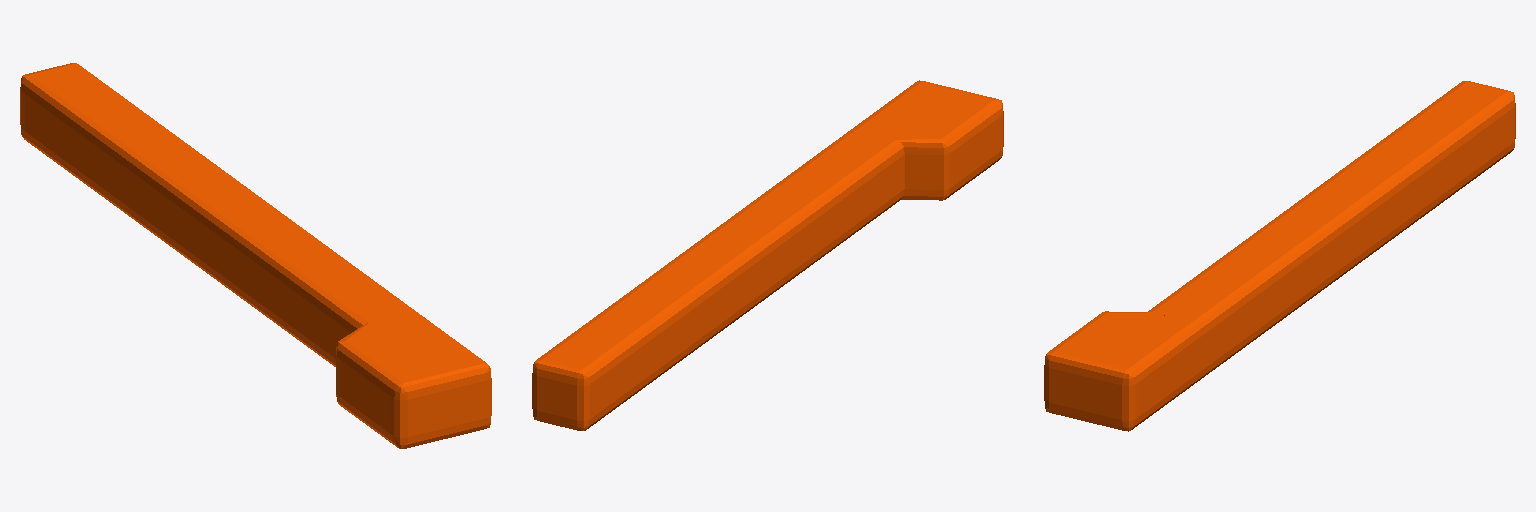
The robot description file, URDF, robot "square_brush":
<?xml version="1.0"?>
<!-- 3D-printed square brush captured with the OptiTrack+AVP rig (Motive rigid body "d2_brush").
     The mesh is the COACD convex decomposition (2 submeshes); the env loads it with
     convex_decomposition_from_submeshes enabled, so each submesh becomes its own convex collision
     shape. Mass comes from asset_options.density (200 kg/m^3, low-fill 3D print) — the same value
     every OakInk-v2 object is loaded with. -->
<robot name="square_brush">
  <material name="obj_color">
      <color rgba="1.0 0.423529411765 0.0392156862745 1.0"/>
  </material>
  <link name="base">
    <visual>
      <origin xyz="0.0 0.0 0.0"/>
      <geometry>
        <mesh filename="square_brush.obj" scale="1 1 1"/>
      </geometry>
      <material name="obj_color"/>
    </visual>
    <collision>
      <origin xyz="0.0 0.0 0.0"/>
      <geometry>
        <mesh filename="square_brush.obj" scale="1 1 1"/>
      </geometry>
    </collision>
  </link>
</robot>

--- What the picture shows (computed from the rendered views, not written in the file) ---
Views: 3 orthographic renders of the robot side by side, from view 1: azimuth 30°, elevation 25°; view 2: azimuth 150°, elevation 25°; view 3: azimuth 330°, elevation 25°.
Model square_brush with 1 links and 0 joints (none), rooted at base, posed all joints at 0.
Links seen in each view (by area): view 1: base; view 2: base; view 3: base.
Link boxes in pixels (box(x1,y1,x2,y2)): base: box(20, 63, 491, 448); base: box(532, 80, 1003, 430); base: box(1044, 81, 1515, 431).
Bounding box of the posed robot: 0.0272 × 0.2022 × 0.0172 m (x, y, z).
1 mesh visuals loaded from 1 distinct referenced files (1 OBJ).
